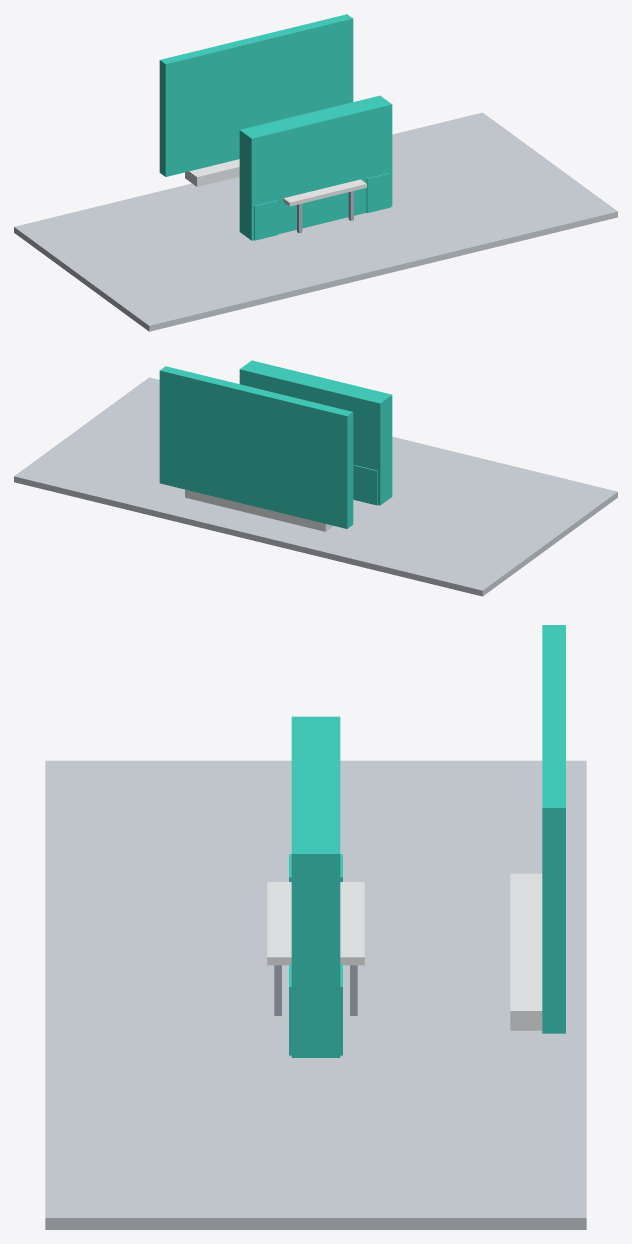
The picture shows the model from 3 angles, top to bottom: view 1: azimuth 30°, elevation 25°; view 2: azimuth 150°, elevation 25°; view 3: azimuth 270°, elevation 25°; orthographic projection. The views are drawn at different scales.
Parts seen in each view (by area): view 1: Exhibition Booth Concept; view 2: Exhibition Booth Concept; view 3: Exhibition Booth Concept.
Part boxes in pixels (x1,y1,x2,y2): Exhibition Booth Concept: (14, 14, 617, 331); Exhibition Booth Concept: (14, 360, 617, 596); Exhibition Booth Concept: (45, 625, 586, 1229).
Bounding box in the file's own units: 10 × 2.9 × 5.
